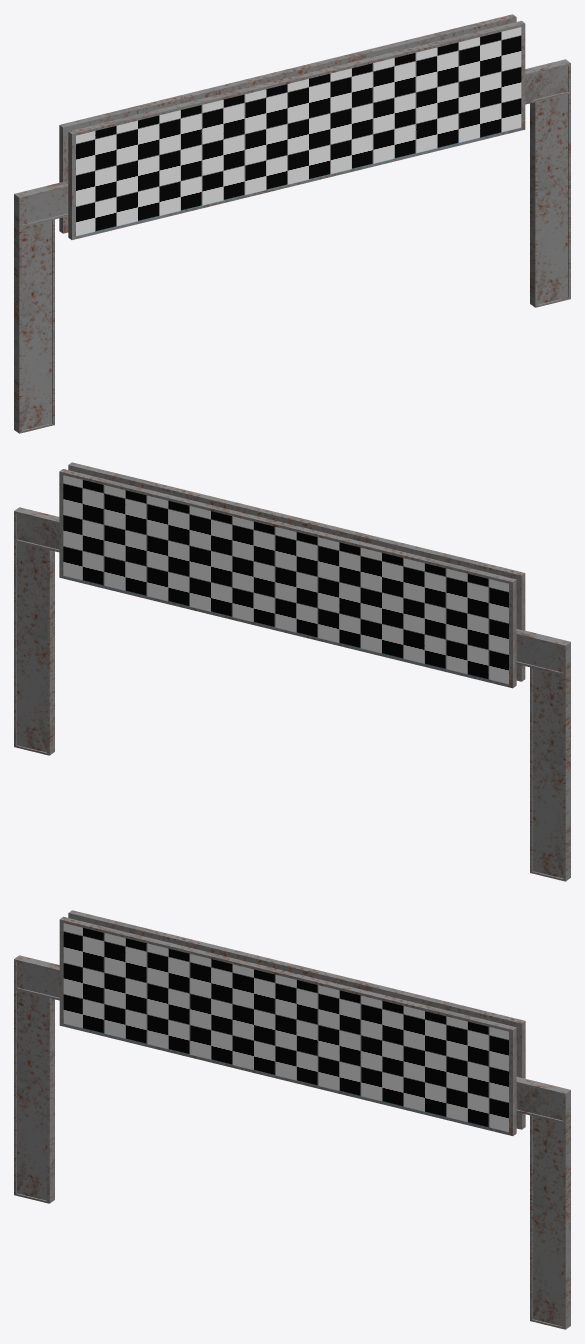
File: aws_Billboard_01_visual.DAE
The picture shows the model from 3 angles, top to bottom: view 1: azimuth 30°, elevation 25°; view 2: azimuth 150°, elevation 25°; view 3: azimuth 330°, elevation 25°; orthographic projection.
Visible parts, largest first — view 1: aws_Billboard_01_visual; view 2: aws_Billboard_01_visual; view 3: aws_Billboard_01_visual.
Boxes of the visible parts, left/top/right/bottom form: aws_Billboard_01_visual: left=14, top=14, right=570, bottom=433; aws_Billboard_01_visual: left=14, top=462, right=570, bottom=881; aws_Billboard_01_visual: left=14, top=910, right=570, bottom=1329.
Bounding box in the file's own units: 1578 × 62.25 × 793.
Materials: 1 (1 with a texture image).
